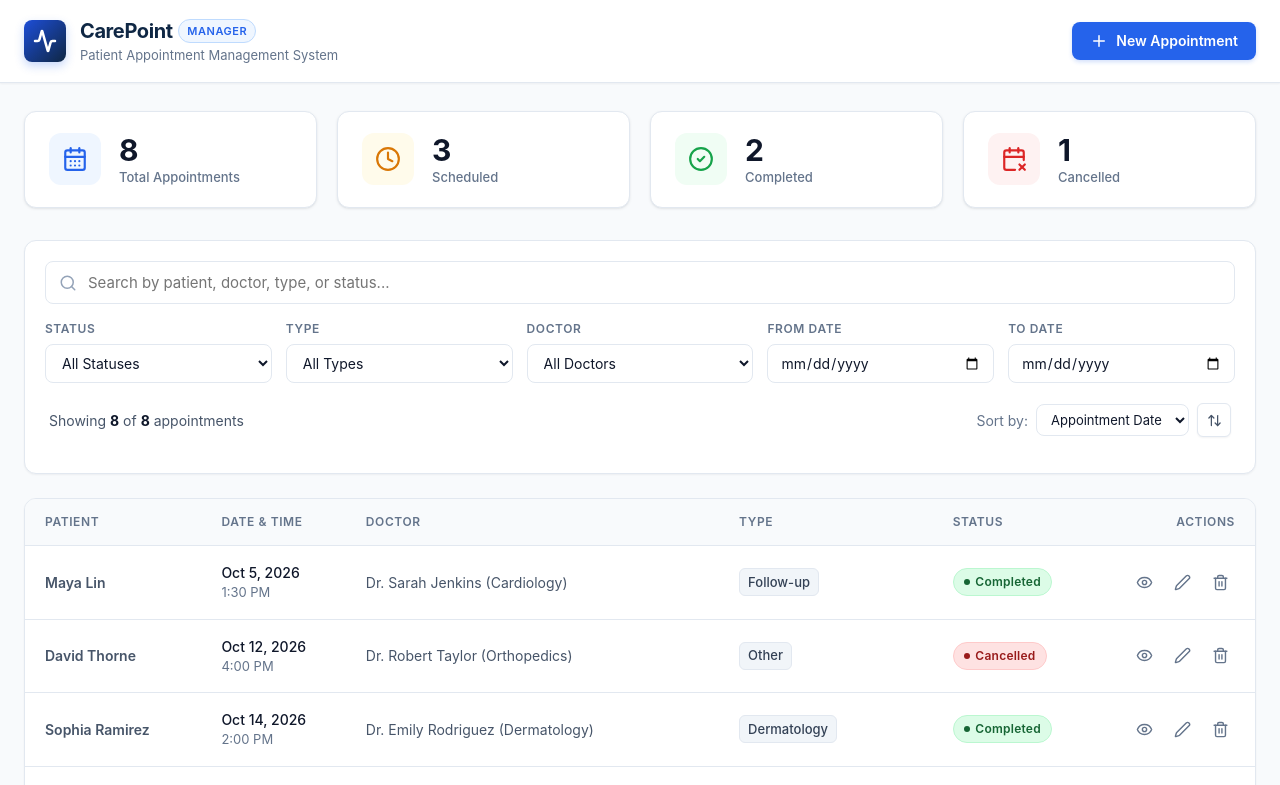
CarePoint Dashboard Component Integration Tests › validates required fields and shows inline errors when creating an appointment
Note: Open modal
Click the button with test id "new-appointment-button" at (1164, 41), box [1072,22,1256,60]
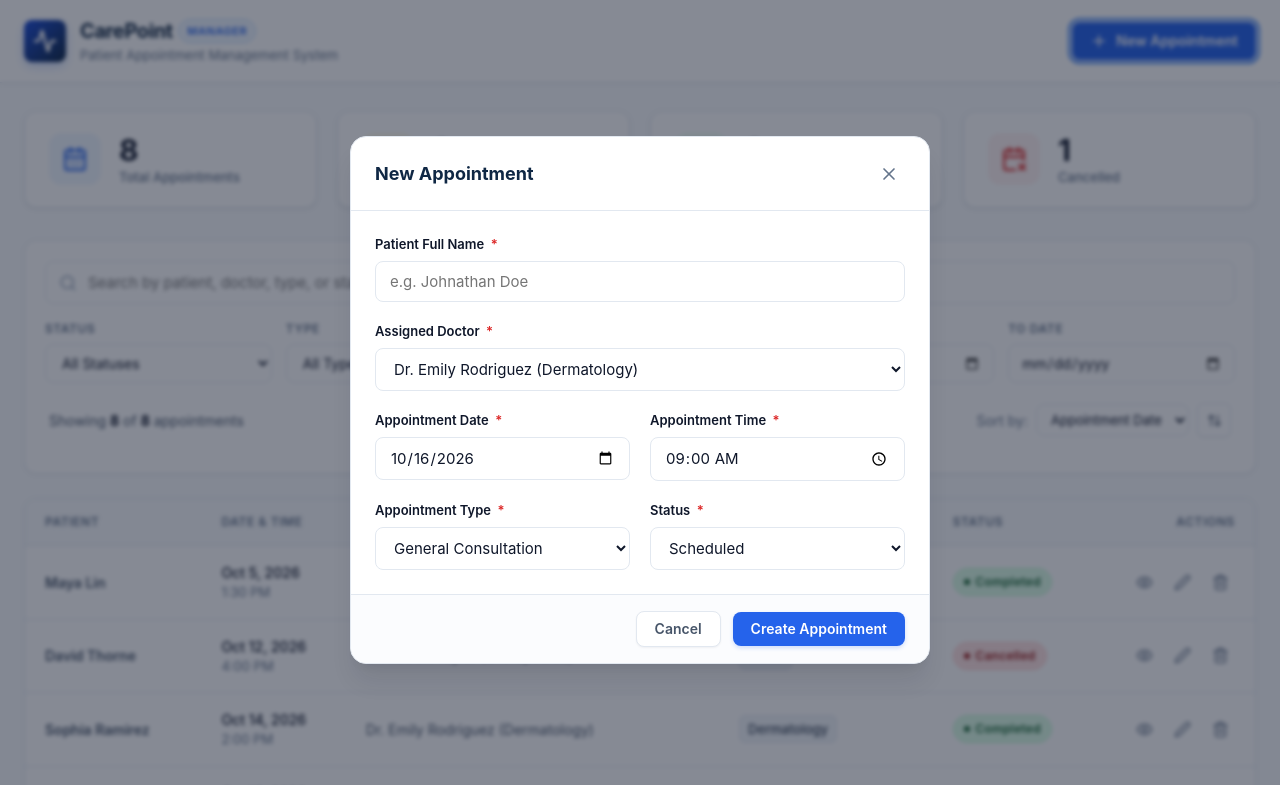
Now the dialog with test id "appointment-form-modal" is shown, box [350,136,930,664]
Note: Clear patient name and submit
Clear the field with test id "input-patient-name" at (640, 282), box [375,261,905,302]
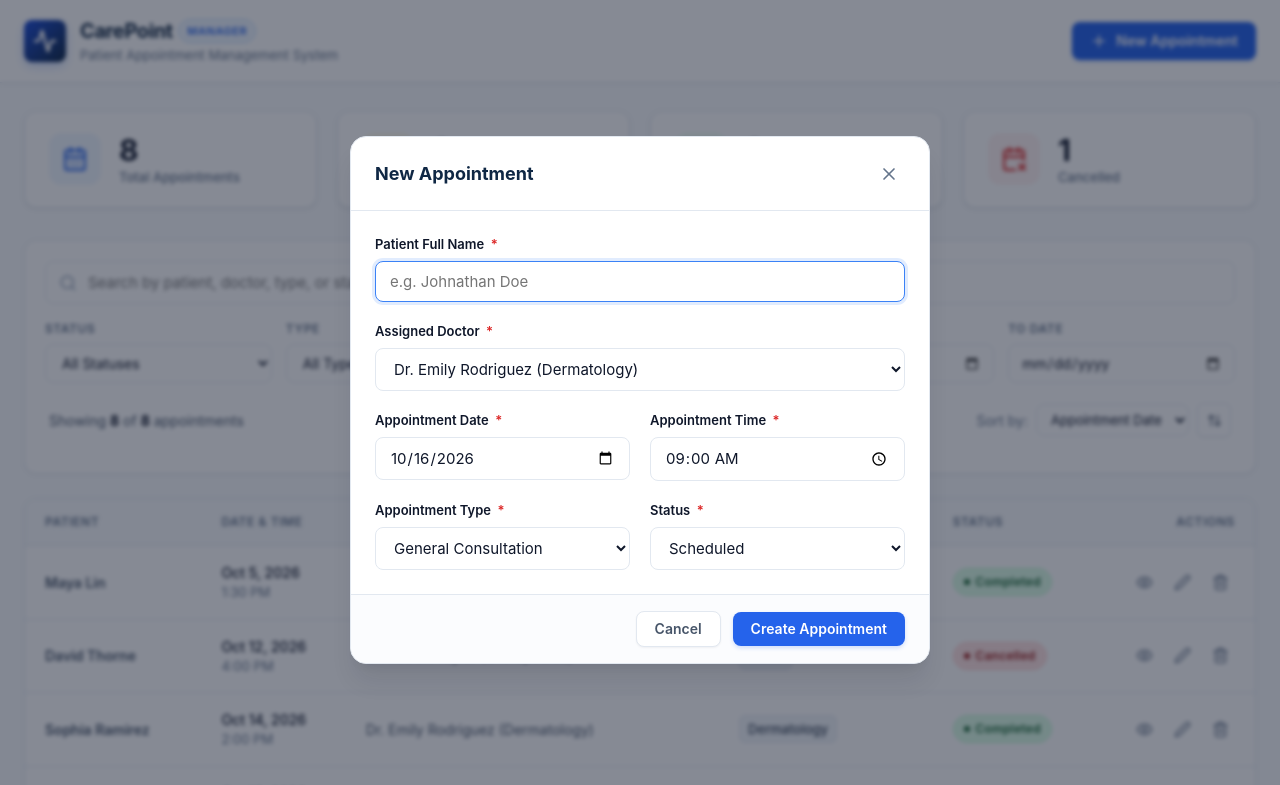
Click the button with test id "form-submit-btn" at (819, 628), box [733,612,905,646]
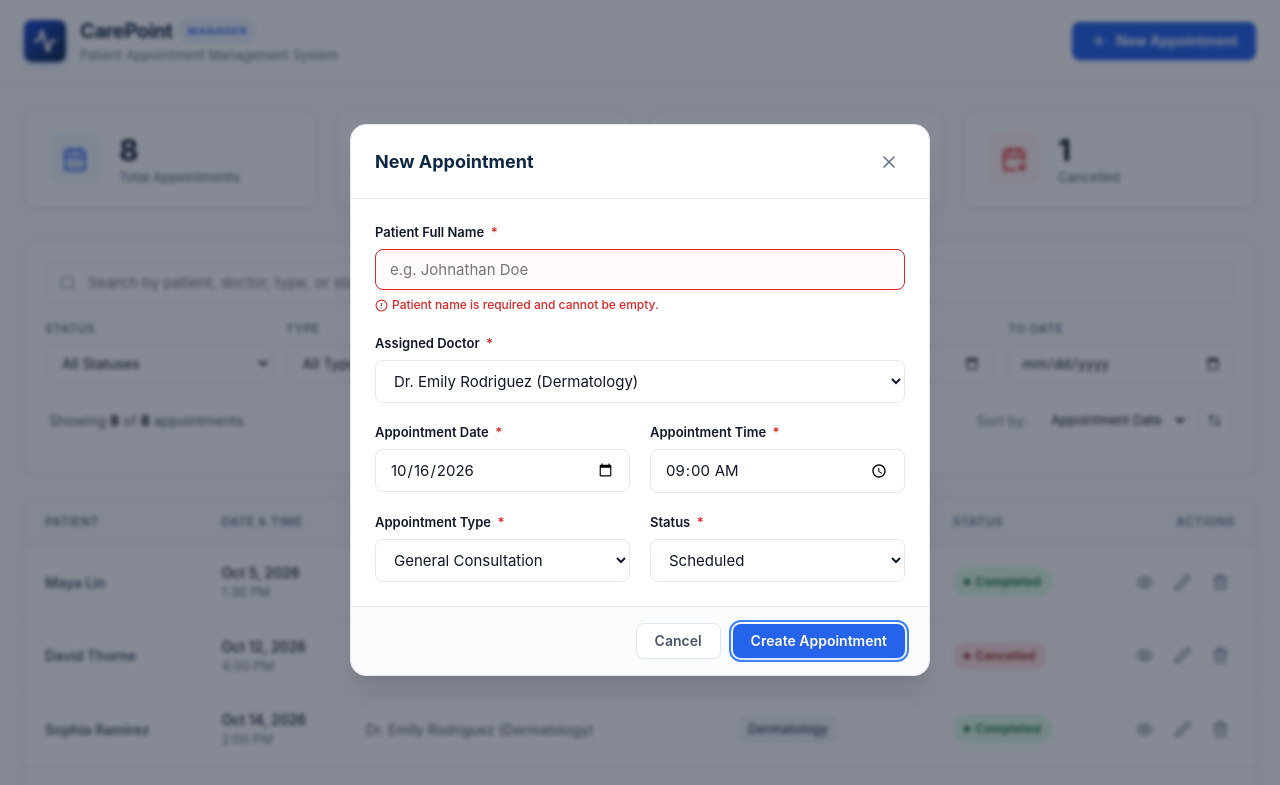
Now the dialog with test id "appointment-form-modal" is shown, box [350,124,930,676]
Now the message "Patient name is required and cannot be empty." is shown, box [375,297,659,312]
Now the message with test id "error-patient-name" shows "required and cannot be empty", box [392,297,659,312]
